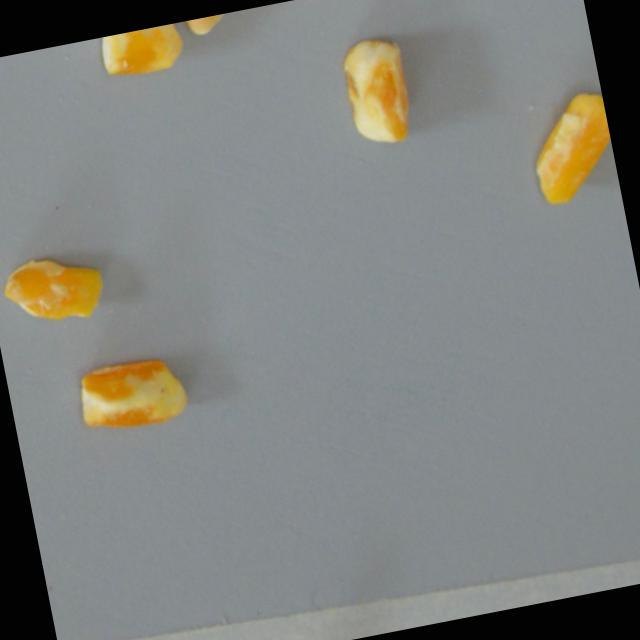dañado: (515, 83, 622, 215), (333, 29, 422, 157), (0, 244, 114, 339), (93, 21, 190, 90), (169, 6, 261, 45)
punto_negro: (72, 351, 195, 442)
